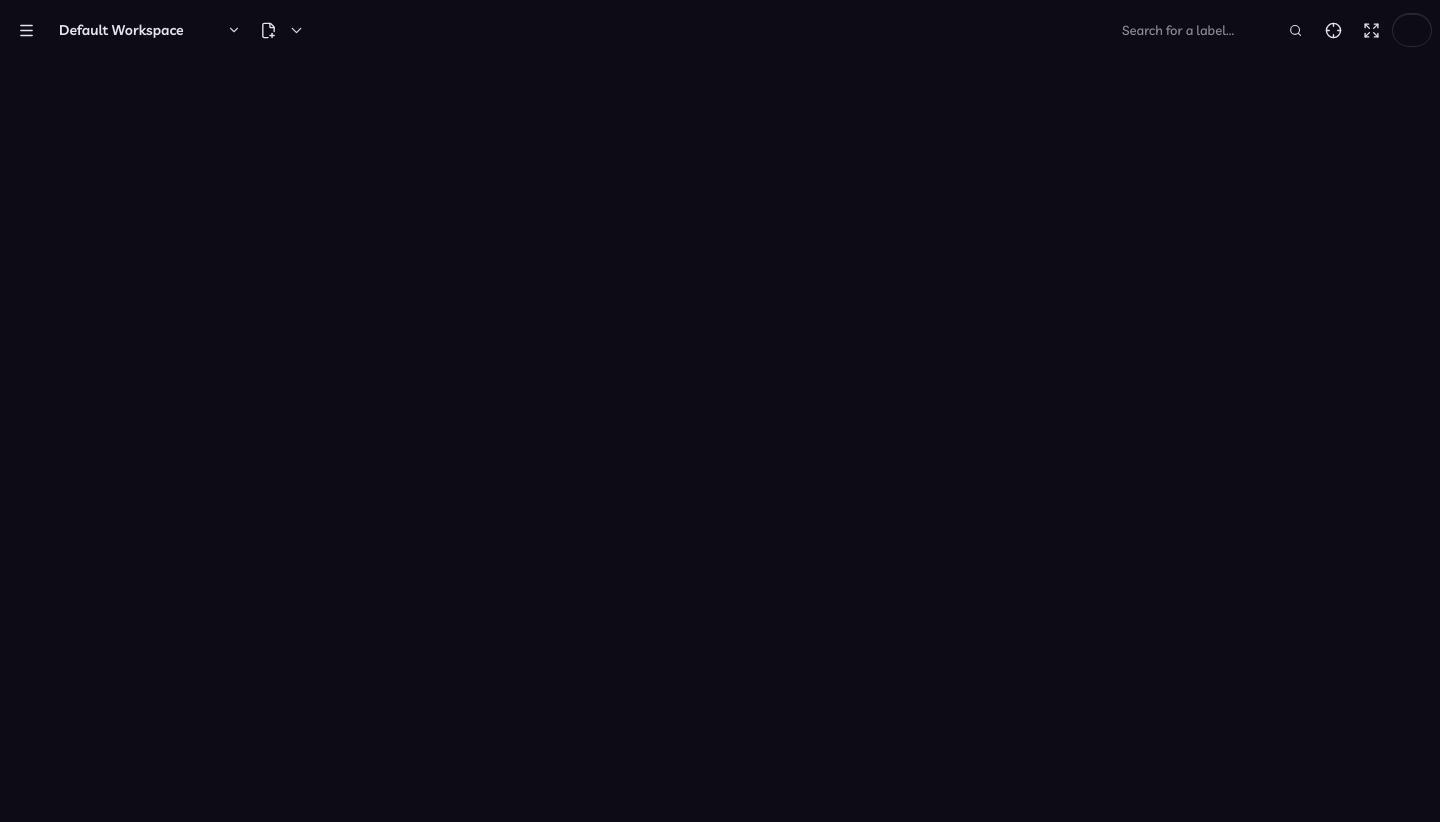
TopBar › renders settings tab without crashing and shows label count
Open account menu
Click the button named "menu" at (26, 30), box [8,12,44,48]
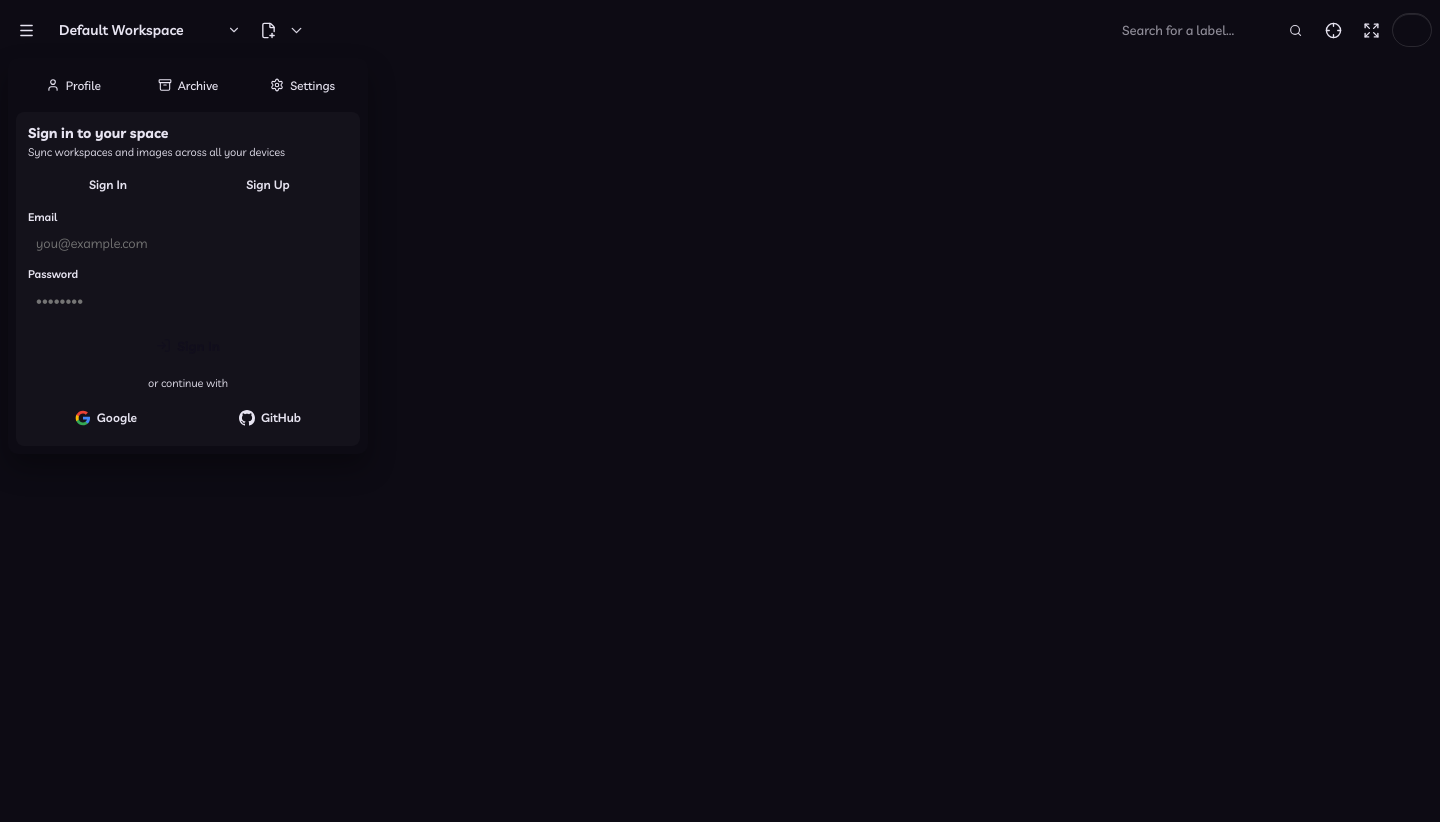
Click on Settings tab
Click the button "Settings" at (303, 85), box [245,66,360,104]
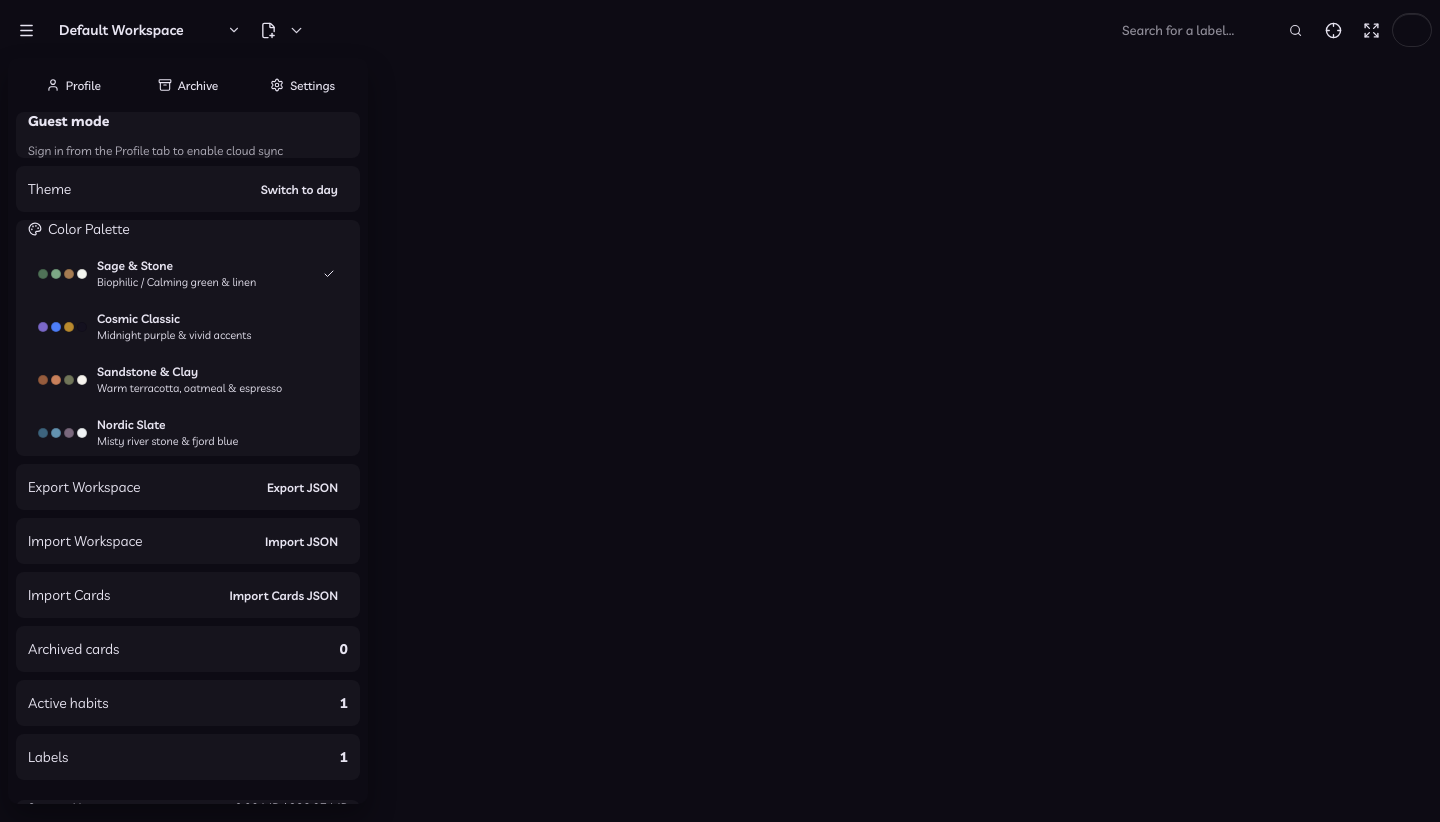
expect the text "Theme" is shown: met, box [28,180,71,198]
expect the text "Labels" is shown: met, box [28,748,68,766]
expect the text "Import Cards" is shown: met, box [28,586,110,604]
